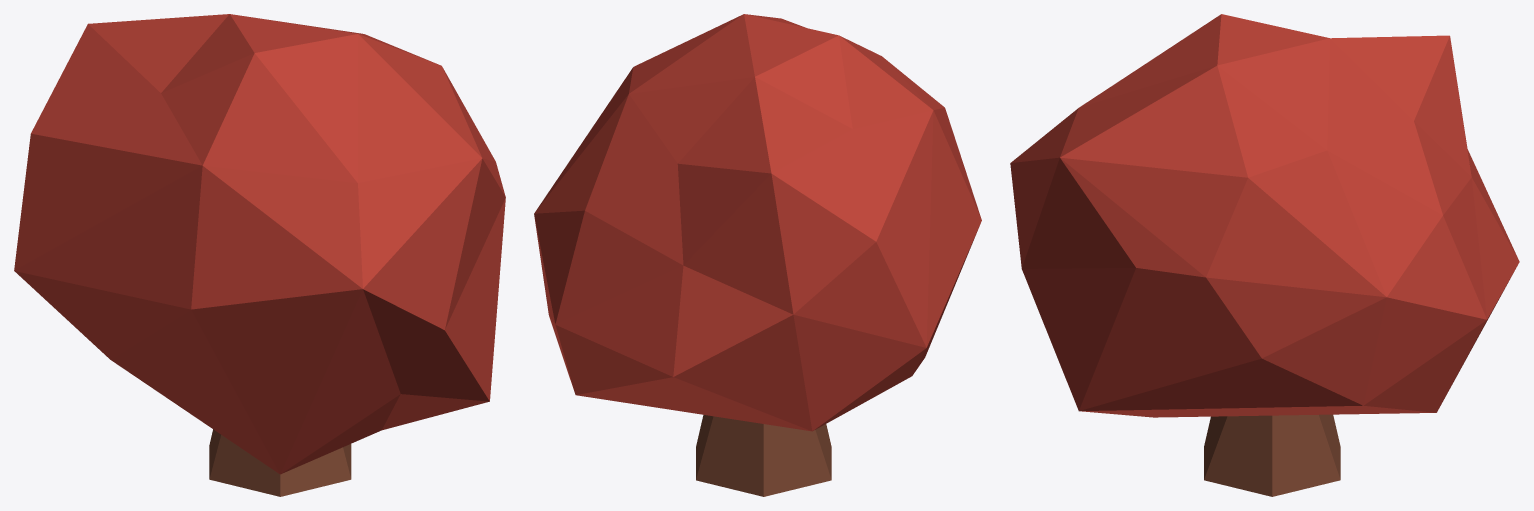
File: Bush_1_summer_red_vc.fbx
3 renders of one model, left to right at view 1: azimuth 30°, elevation 25°; view 2: azimuth 150°, elevation 25°; view 3: azimuth 270°, elevation 25°, orthographic. The views are drawn at different scales.
Visible parts, largest first — view 1: Bush_1_summer_red_vc; view 2: Bush_1_summer_red_vc; view 3: Bush_1_summer_red_vc.
Boxes of the visible parts, x1,y1,x2,y2 form: Bush_1_summer_red_vc: [14, 14, 505, 496]; Bush_1_summer_red_vc: [534, 14, 981, 496]; Bush_1_summer_red_vc: [1010, 14, 1519, 496].
Bounding box in the file's own units: 40.88 × 42.19 × 45.82.
